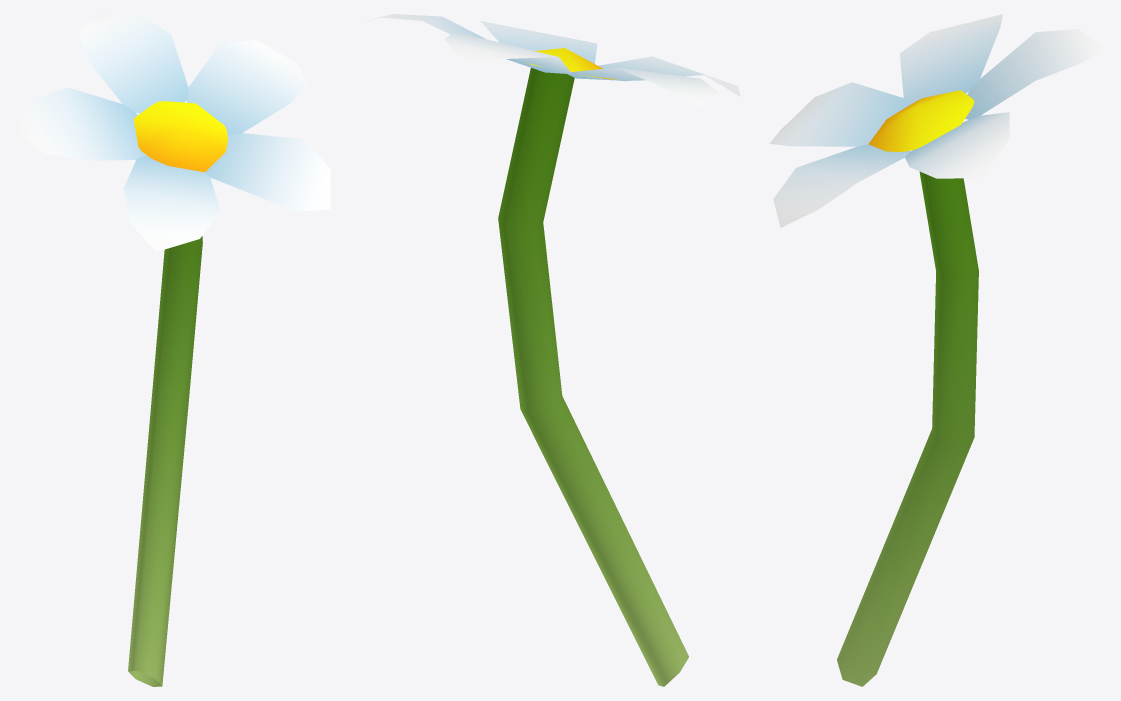
Rendered from flower.glb.
3 renders of one model, left to right at view 1: azimuth 30°, elevation 25°; view 2: azimuth 150°, elevation 25°; view 3: azimuth 270°, elevation 25°, orthographic. The views are drawn at different scales.
Parts seen in each view (by area): view 1: flower; view 2: flower; view 3: flower.
Boxes of the visible parts, x1=… form: flower: x1=14, y1=14, x2=330, y2=686; flower: x1=366, y1=14, x2=740, y2=686; flower: x1=769, y1=14, x2=1106, y2=686.
Bounding box in the file's own units: 0.5479 × 1.08 × 0.4936.
1 material, 1 textured.
